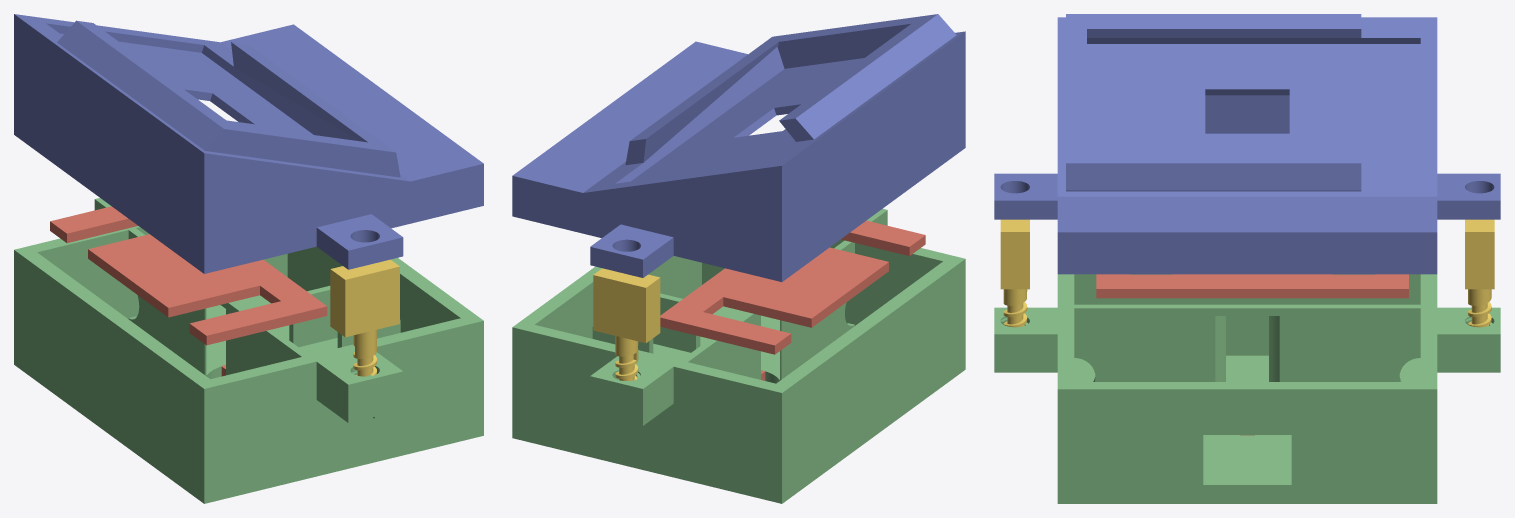
Rendered from solar-lamp.glb.
3 renders of one model, left to right at view 1: azimuth 30°, elevation 25°; view 2: azimuth 150°, elevation 25°; view 3: azimuth 270°, elevation 25°, orthographic. The views are drawn at different scales.
Visible parts, largest first — view 1: Solar Enclosure Part Top v14:1, Solar Enclosure Bottom:1, Battery Enclosure v8:1, SCREW ENCLOSURE v7:1; view 2: Solar Enclosure Part Top v14:1, Solar Enclosure Bottom:1, Battery Enclosure v8:1, SCREW ENCLOSURE v7:2; view 3: Solar Enclosure Part Top v14:1, Solar Enclosure Bottom:1, Battery Enclosure v8:1, SCREW ENCLOSURE v7:1, SCREW ENCLOSURE v7:2.
Boxes of the visible parts, x1,y1,x2,y2 form: Solar Enclosure Part Top v14:1: (14, 14, 483, 273); Solar Enclosure Bottom:1: (14, 198, 483, 503); Battery Enclosure v8:1: (50, 206, 327, 345); SCREW ENCLOSURE v7:1: (330, 259, 399, 376); Solar Enclosure Part Top v14:1: (512, 14, 965, 281); Solar Enclosure Bottom:1: (512, 208, 965, 503); Battery Enclosure v8:1: (660, 220, 925, 354); SCREW ENCLOSURE v7:2: (593, 268, 660, 380); Solar Enclosure Part Top v14:1: (994, 14, 1500, 274); Solar Enclosure Bottom:1: (994, 274, 1500, 503); Battery Enclosure v8:1: (1096, 274, 1408, 298); SCREW ENCLOSURE v7:1: (1000, 219, 1029, 327); SCREW ENCLOSURE v7:2: (1465, 219, 1494, 327).
Size of the model in its own units: 0.0764 by 0.1051 by 0.12.
